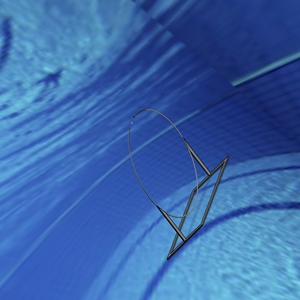circle: (125, 105, 230, 259)
